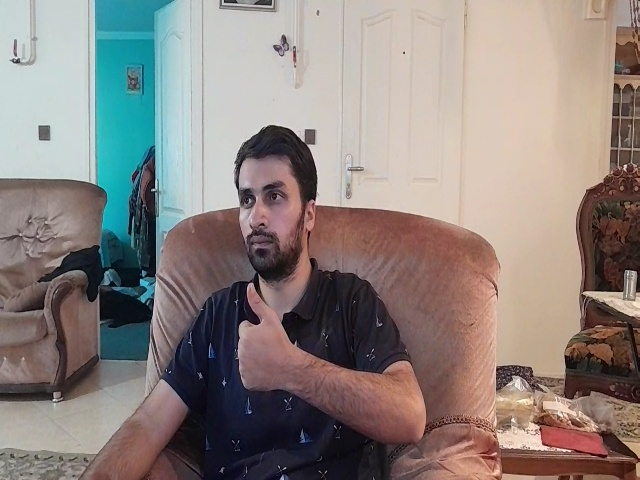ThumbsUp: (236, 282, 292, 395)
